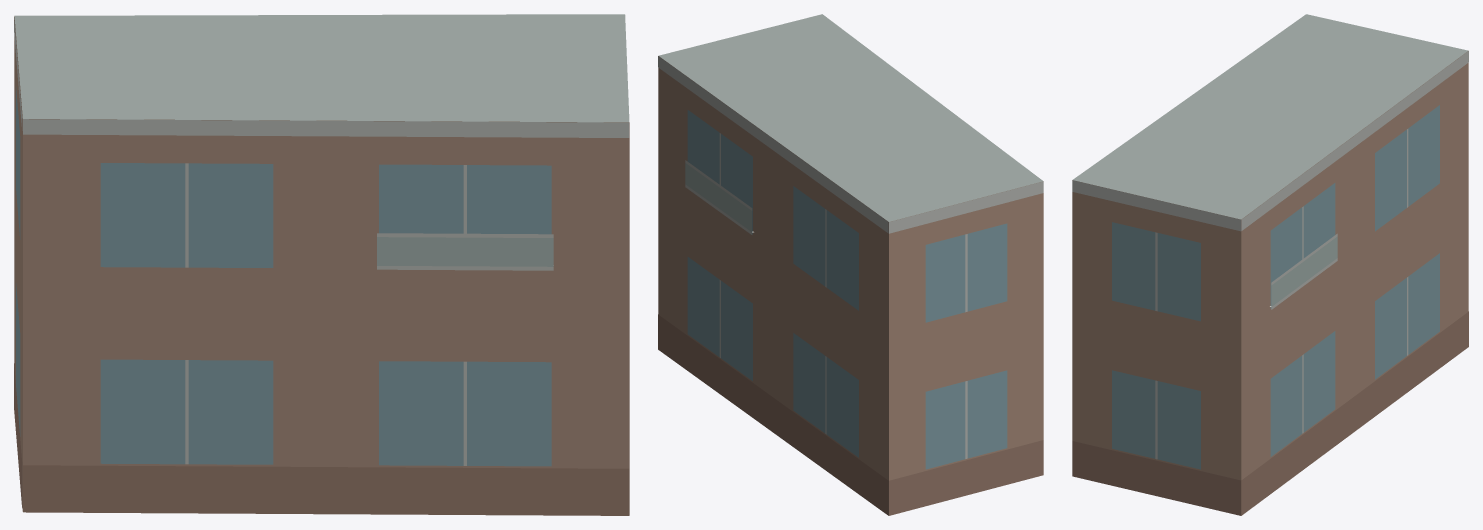
Rendered from survey-upis-32463409.glb.
3 views of the same model, side by side, from view 1: azimuth 30°, elevation 25°; view 2: azimuth 150°, elevation 25°; view 3: azimuth 270°, elevation 25° (orthographic). The views are drawn at different scales.
Parts seen in each view (by area): view 1: survey-upis-32463409.tmp; view 2: survey-upis-32463409.tmp; view 3: survey-upis-32463409.tmp.
Part boxes in pixels (x1,y1,x2,y2): survey-upis-32463409.tmp: [14, 14, 629, 515]; survey-upis-32463409.tmp: [658, 14, 1043, 515]; survey-upis-32463409.tmp: [1072, 14, 1468, 515].
Bounding box in the file's own units: 9.08 × 6.1 × 7.4.
